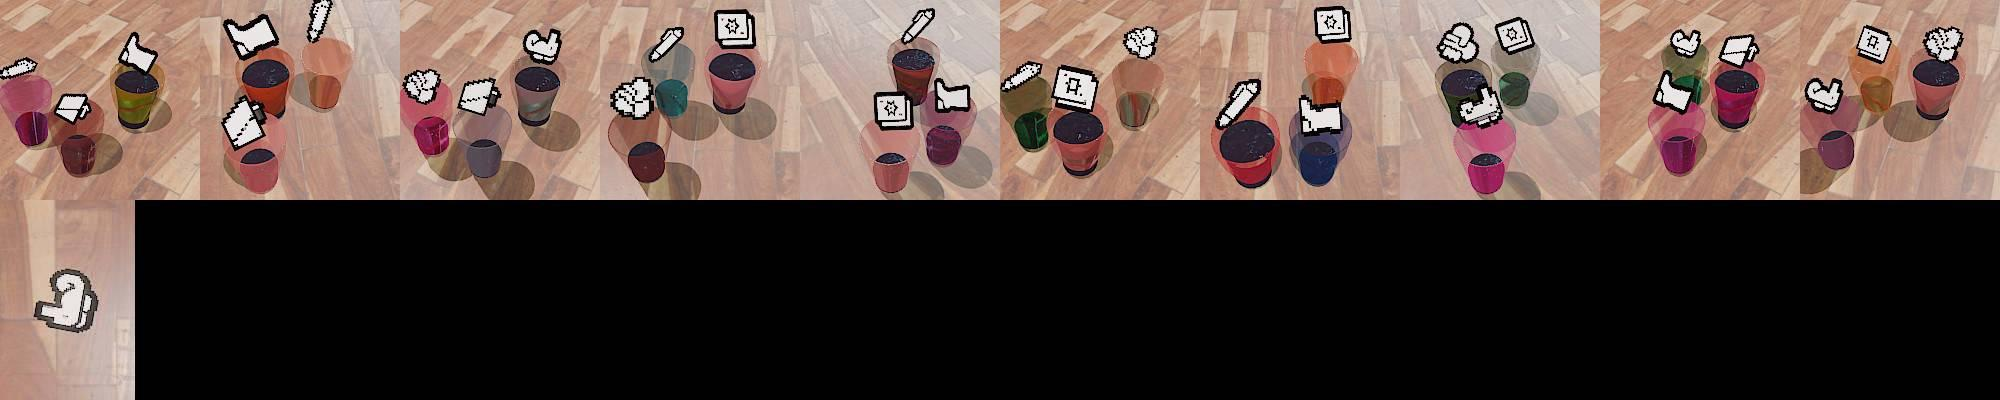icon: (29, 266, 99, 334), (222, 11, 282, 61), (221, 96, 268, 150), (1214, 76, 1261, 130), (1050, 64, 1098, 113), (1652, 68, 1699, 115), (1455, 85, 1505, 129), (608, 75, 656, 118), (116, 31, 159, 78), (1297, 93, 1343, 134), (1436, 22, 1480, 64), (457, 75, 501, 115), (713, 9, 755, 48), (1492, 17, 1534, 56), (874, 90, 915, 130), (1717, 32, 1760, 69), (1855, 25, 1894, 65), (522, 27, 562, 65), (1804, 75, 1844, 113), (1922, 25, 1963, 62), (1312, 5, 1351, 43), (402, 68, 443, 103), (999, 61, 1042, 94), (648, 27, 686, 64), (932, 78, 972, 113), (51, 92, 92, 124), (901, 8, 935, 45), (305, 0, 334, 43), (1122, 25, 1157, 60), (1668, 28, 1703, 60), (0, 57, 40, 80)
